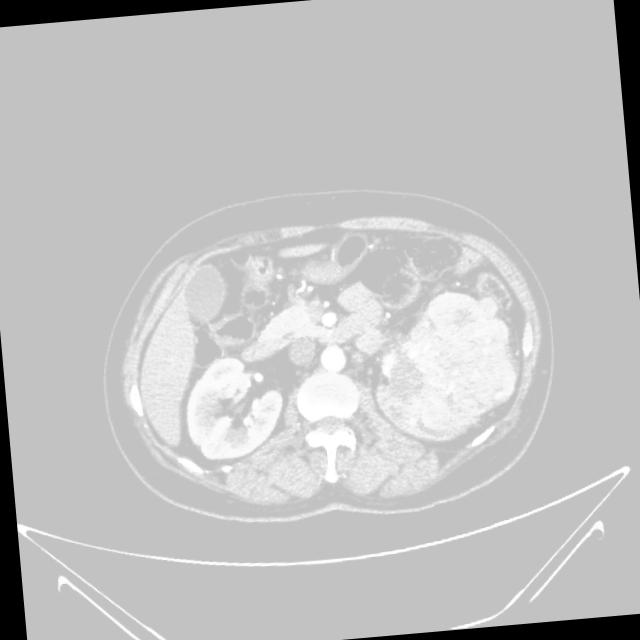TUMOR: (117, 248, 501, 462)
